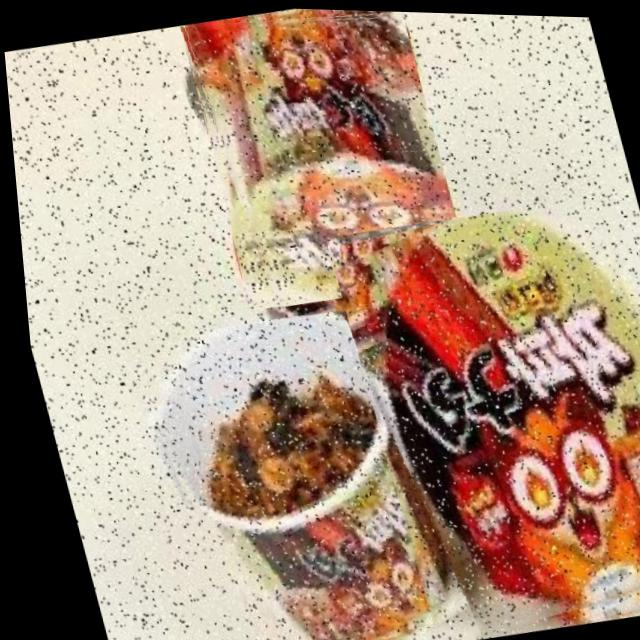Miscellaneous: (317, 182, 640, 640), (120, 293, 470, 640), (173, 4, 469, 314)
